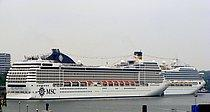Ship: (4, 46, 177, 104)
